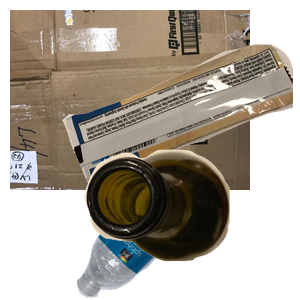cardboard: (10, 10, 250, 190)
glass: (82, 147, 300, 300)
plastic: (74, 156, 280, 300)
trash: (60, 42, 300, 219)
